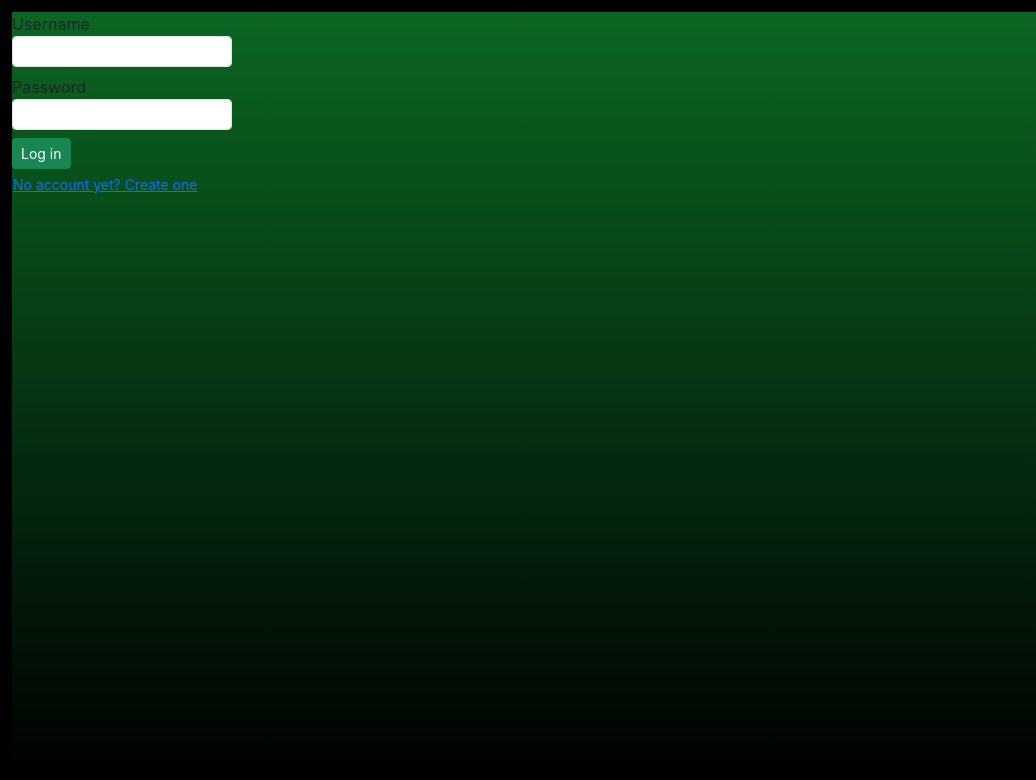
Test case: an unrecognised error code still says something useful
This screenshot has width=1036, height=780.
Type "test_user_b" into the field labelled "Username". click: coordinates (122, 52)
box: x1=12 y1=36 x2=232 y2=67
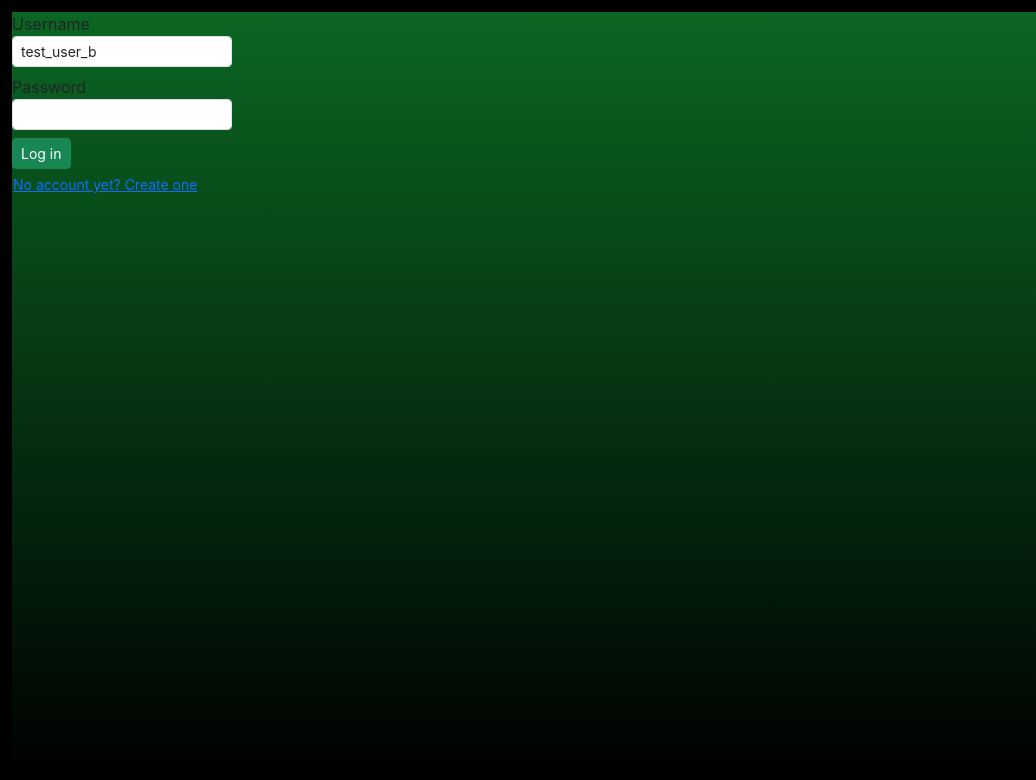
Type "hunter2hunter2" into the password field labelled "Password". click: coordinates (122, 114)
box: x1=12 y1=99 x2=232 y2=130
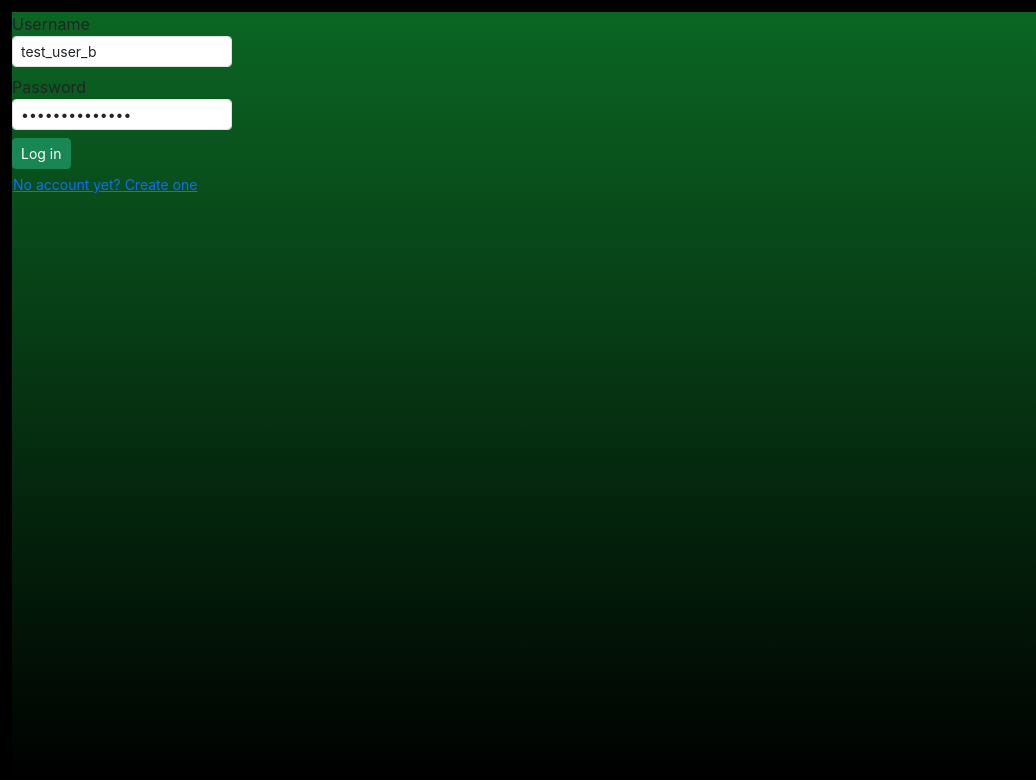
Click the button "Log in". click: coordinates (41, 154)
box: x1=12 y1=138 x2=70 y2=169
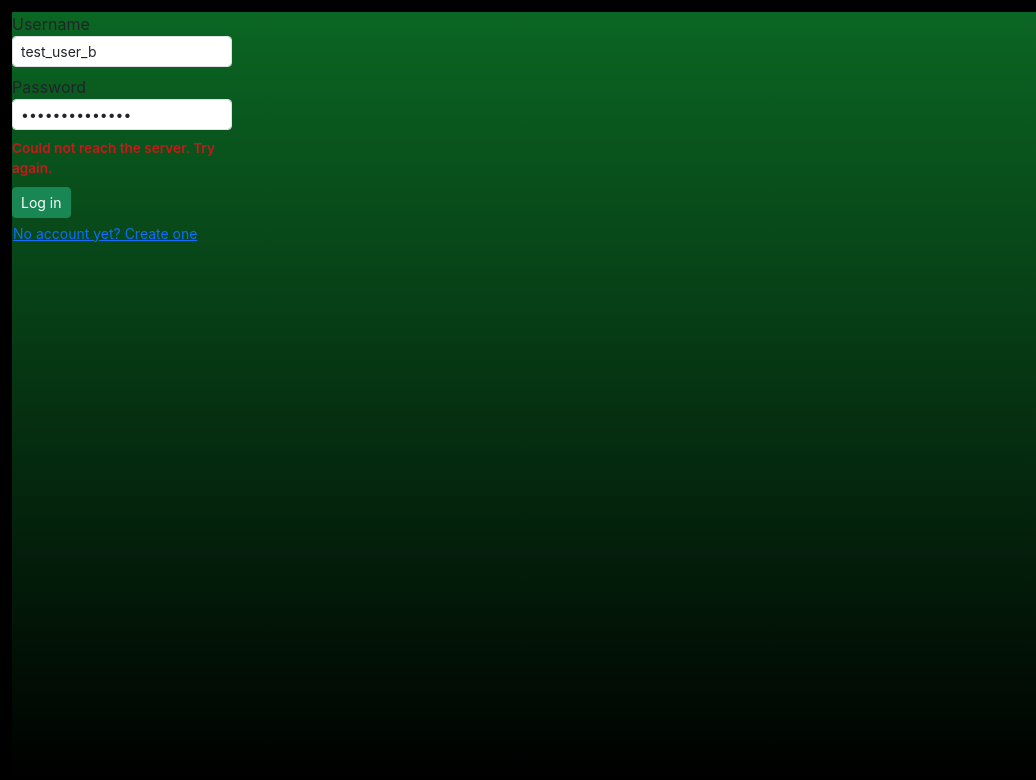
Result: the message reads "Could not reach the server. Try again." at x1=12 y1=140 x2=215 y2=176
